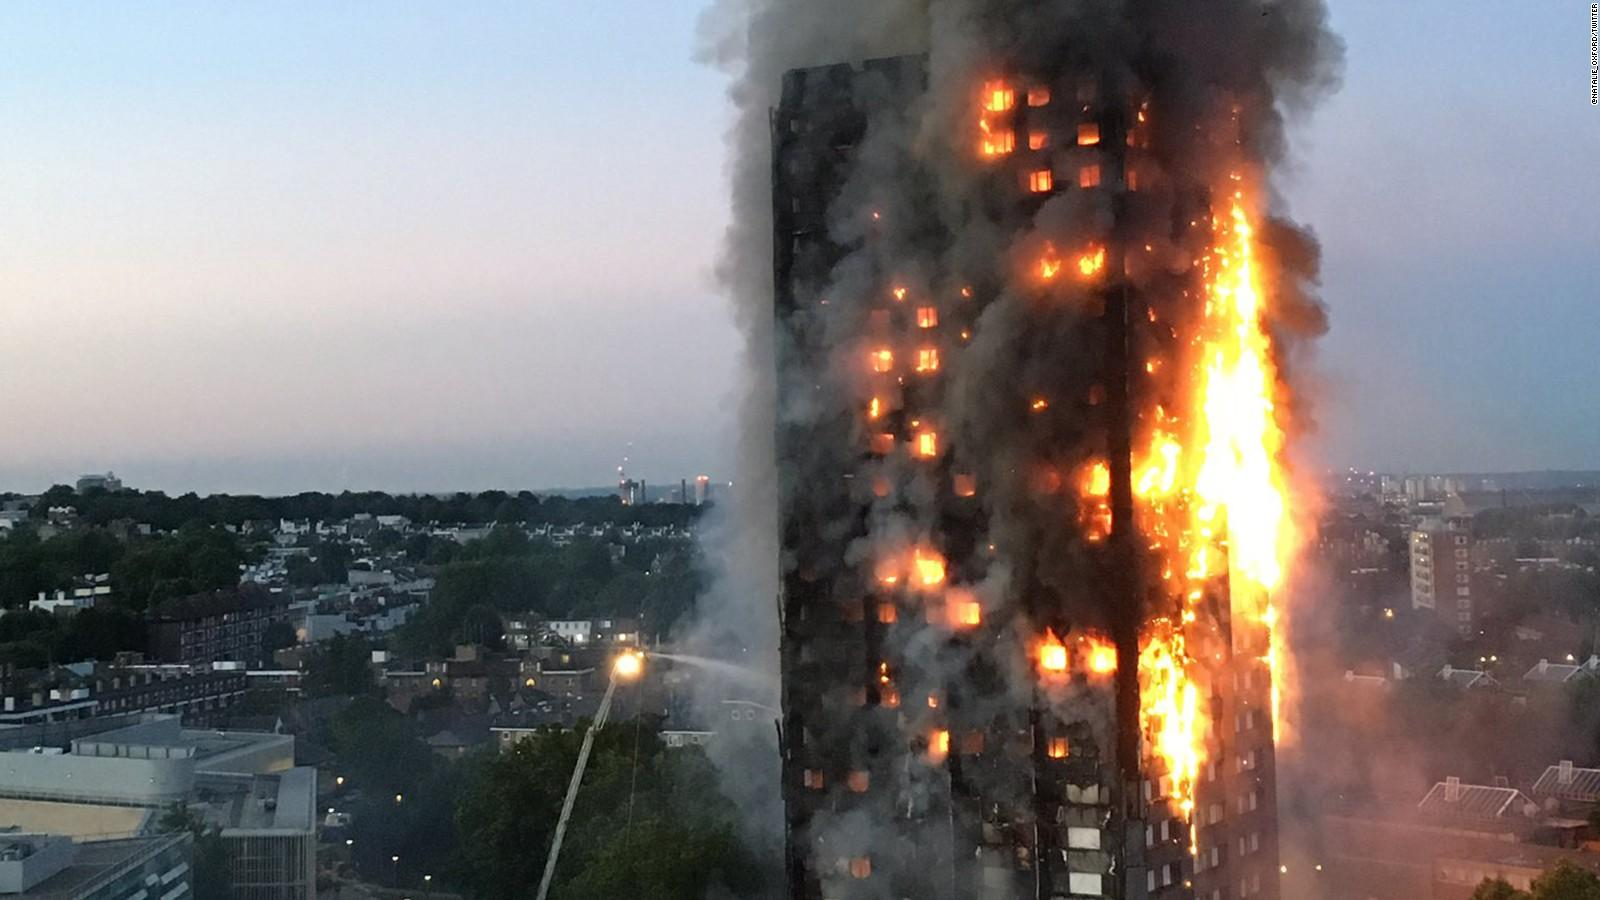Fire: (885, 62, 1338, 822)
